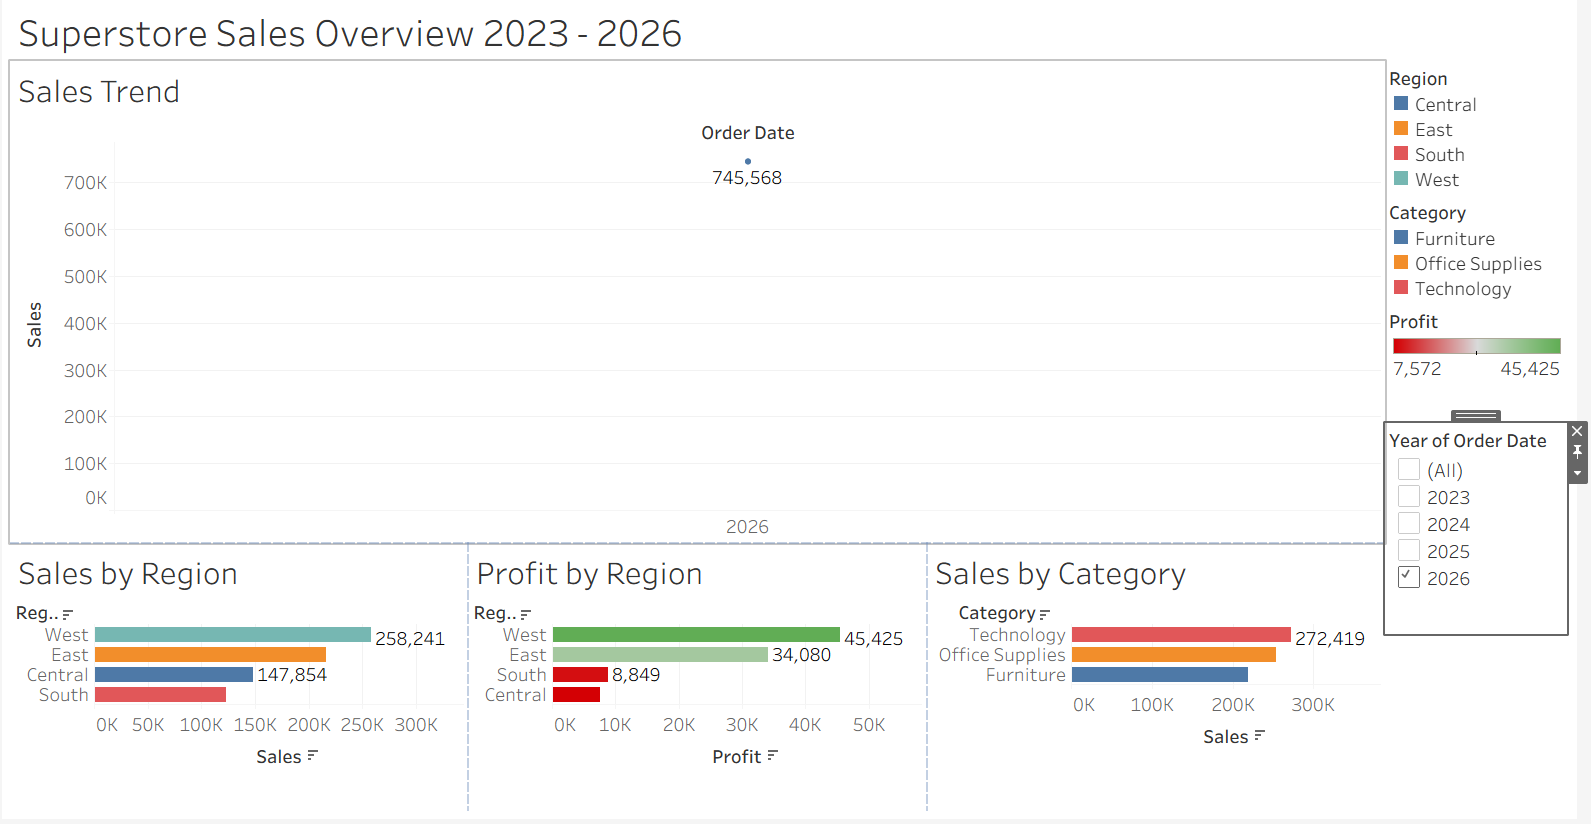

This screenshot's page, from the dashboard's own definition file:
{"tool":"tableau","page":{"name":"Dashboard 2","canvas":[1000,1000],"units":"permille","ordinal":0},"visuals":[{"type":"title","box":[5.1,9.7,989.8,70.4]},{"type":"worksheet","title":"Sales Trend","mark":"Automatic","rows":["Sales"],"cols":["Order Date"],"box":[5.1,80.1,873,584.6]},{"type":"legend","title":"Sales by Region","param":"[federated.0t10jmg08oxs7h17osiaq18cdp12].[none:Region:nk]","box":[878.1,80.1,116.8,162.6]},{"type":"legend","title":"Sales by Category","param":"[federated.0t10jmg08oxs7h17osiaq18cdp12].[none:Category:nk]","box":[878.1,242.7,116.8,132.3]},{"type":"legend","title":"Profit by Region","param":"[federated.0t10jmg08oxs7h17osiaq18cdp12].[sum:Profit:qk]","box":[878.1,375,116.8,144.4]},{"type":"filter","title":"Sales Trend","param":"[federated.0t10jmg08oxs7h17osiaq18cdp12].[yr:Order Date:ok]","box":[878.1,519.4,116.8,256.1]},{"type":"worksheet","title":"Sales by Region","mark":"Automatic","rows":["Region"],"cols":["Sales"],"box":[5.1,664.7,291,325.6]},{"type":"worksheet","title":"Profit by Region","mark":"Automatic","rows":["Region"],"cols":["Profit"],"box":[296.1,664.7,291,325.6]},{"type":"worksheet","title":"Sales by Category","mark":"Automatic","rows":["Category"],"cols":["Sales"],"box":[587.1,664.7,291,325.6]}]}

Visuals, with their boxes on the dashboard's canvas, which has no fixed pixel size, in thousandths of its width and height (x1, y1, x2, y2). These are canvas units, not pixel positions in the 1591x824 screenshot, which may show the page scaled, cropped or inside an application window:
title: bbox=[5, 10, 995, 80]
"Sales Trend" worksheet: bbox=[5, 80, 878, 665]
"Sales by Region" legend: bbox=[878, 80, 995, 243]
"Sales by Category" legend: bbox=[878, 243, 995, 375]
"Profit by Region" legend: bbox=[878, 375, 995, 519]
"Sales Trend" filter: bbox=[878, 519, 995, 776]
"Sales by Region" worksheet: bbox=[5, 665, 296, 990]
"Profit by Region" worksheet: bbox=[296, 665, 587, 990]
"Sales by Category" worksheet: bbox=[587, 665, 878, 990]
